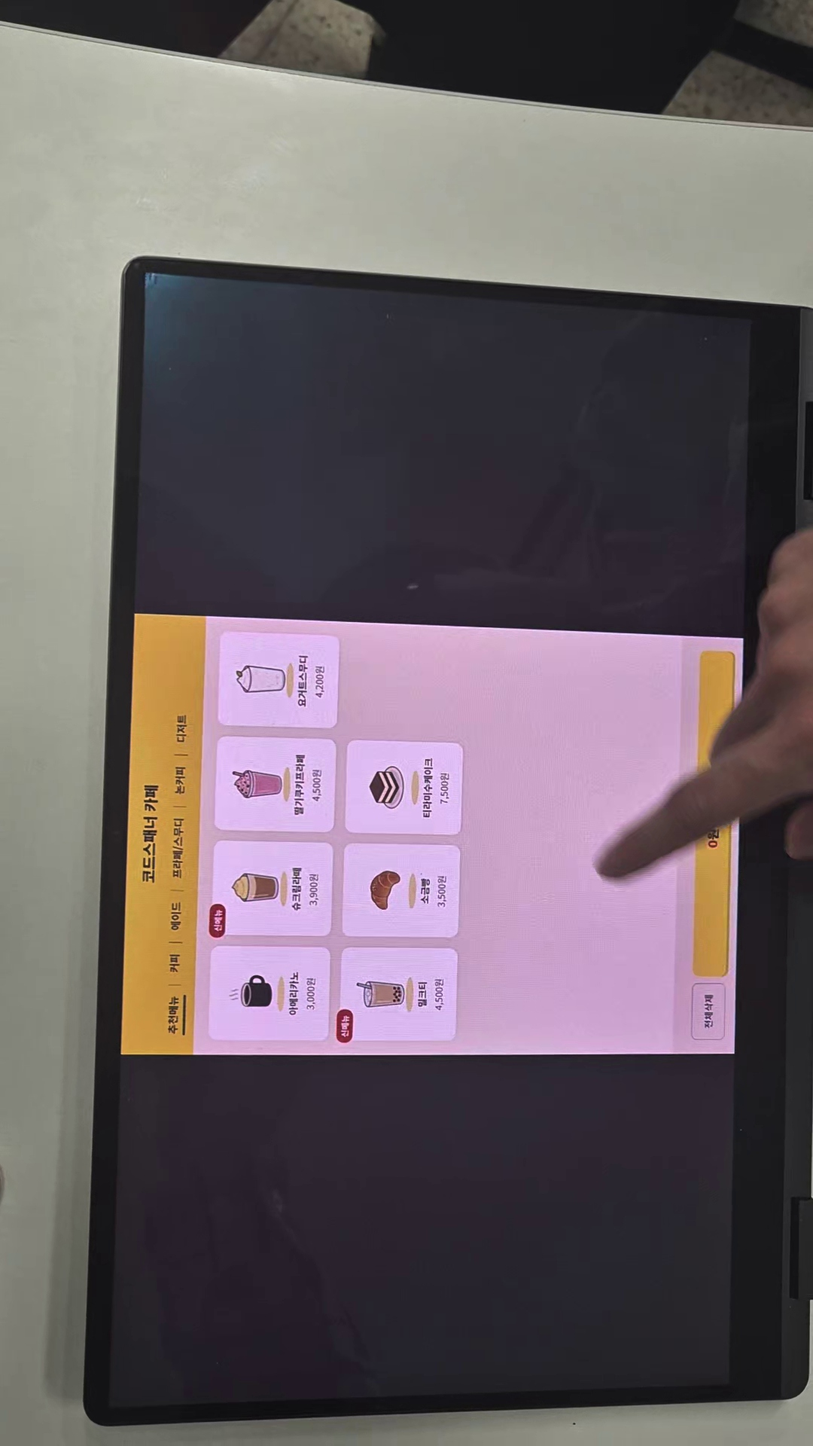action_button: (696, 651, 728, 971), (693, 981, 725, 1040)
category_tab: (169, 817, 187, 881), (164, 990, 187, 1032), (171, 711, 191, 749), (171, 763, 189, 800), (166, 947, 181, 981), (169, 898, 181, 935)
menu_back: (218, 733, 339, 832), (218, 632, 339, 728), (346, 741, 463, 839), (210, 945, 329, 1041), (212, 839, 330, 935), (340, 947, 462, 1039), (342, 844, 459, 935)
menu_name: (420, 753, 438, 823), (296, 650, 313, 713), (293, 750, 308, 815), (291, 865, 303, 916), (287, 968, 298, 1019), (419, 875, 434, 906), (415, 977, 430, 1008)
menu_price: (304, 975, 325, 1013), (309, 762, 327, 803), (438, 769, 456, 809), (432, 973, 449, 1014), (307, 870, 321, 913), (436, 872, 449, 911), (315, 664, 326, 699)
